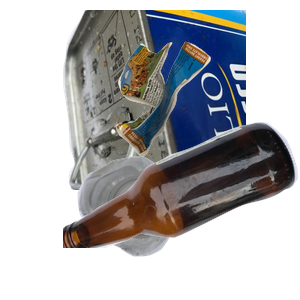glass: (63, 120, 300, 300)
metal: (60, 10, 300, 190)
plastic: (75, 154, 248, 300)
trash: (114, 39, 300, 188)
